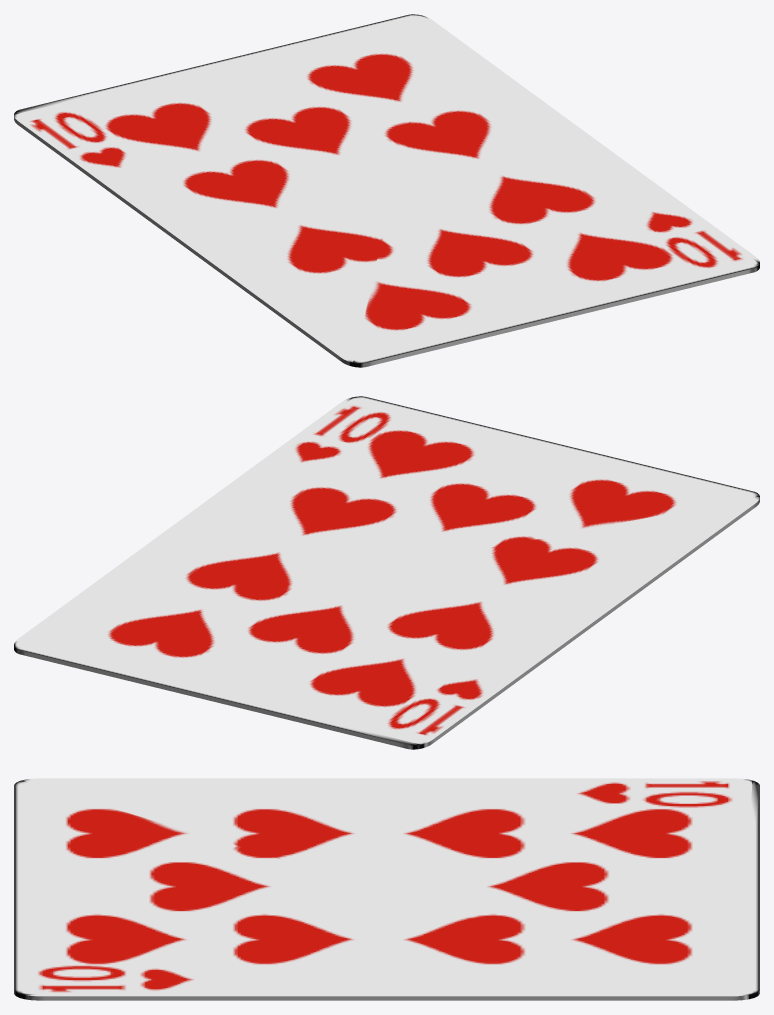
File: Heart_10.fbx
3 views of the same model, one above another, from view 1: azimuth 30°, elevation 25°; view 2: azimuth 150°, elevation 25°; view 3: azimuth 270°, elevation 25° (orthographic). The views are drawn at different scales.
Visible parts, largest first — view 1: Card_Heart; view 2: Card_Heart; view 3: Card_Heart.
Boxes of the visible parts, x1,y1,x2,y2 form: Card_Heart: (14,14,759,367); Card_Heart: (14,396,759,749); Card_Heart: (14,778,759,1000).
Size of the model in its own units: 8.6 by 0.079 by 12.45.
